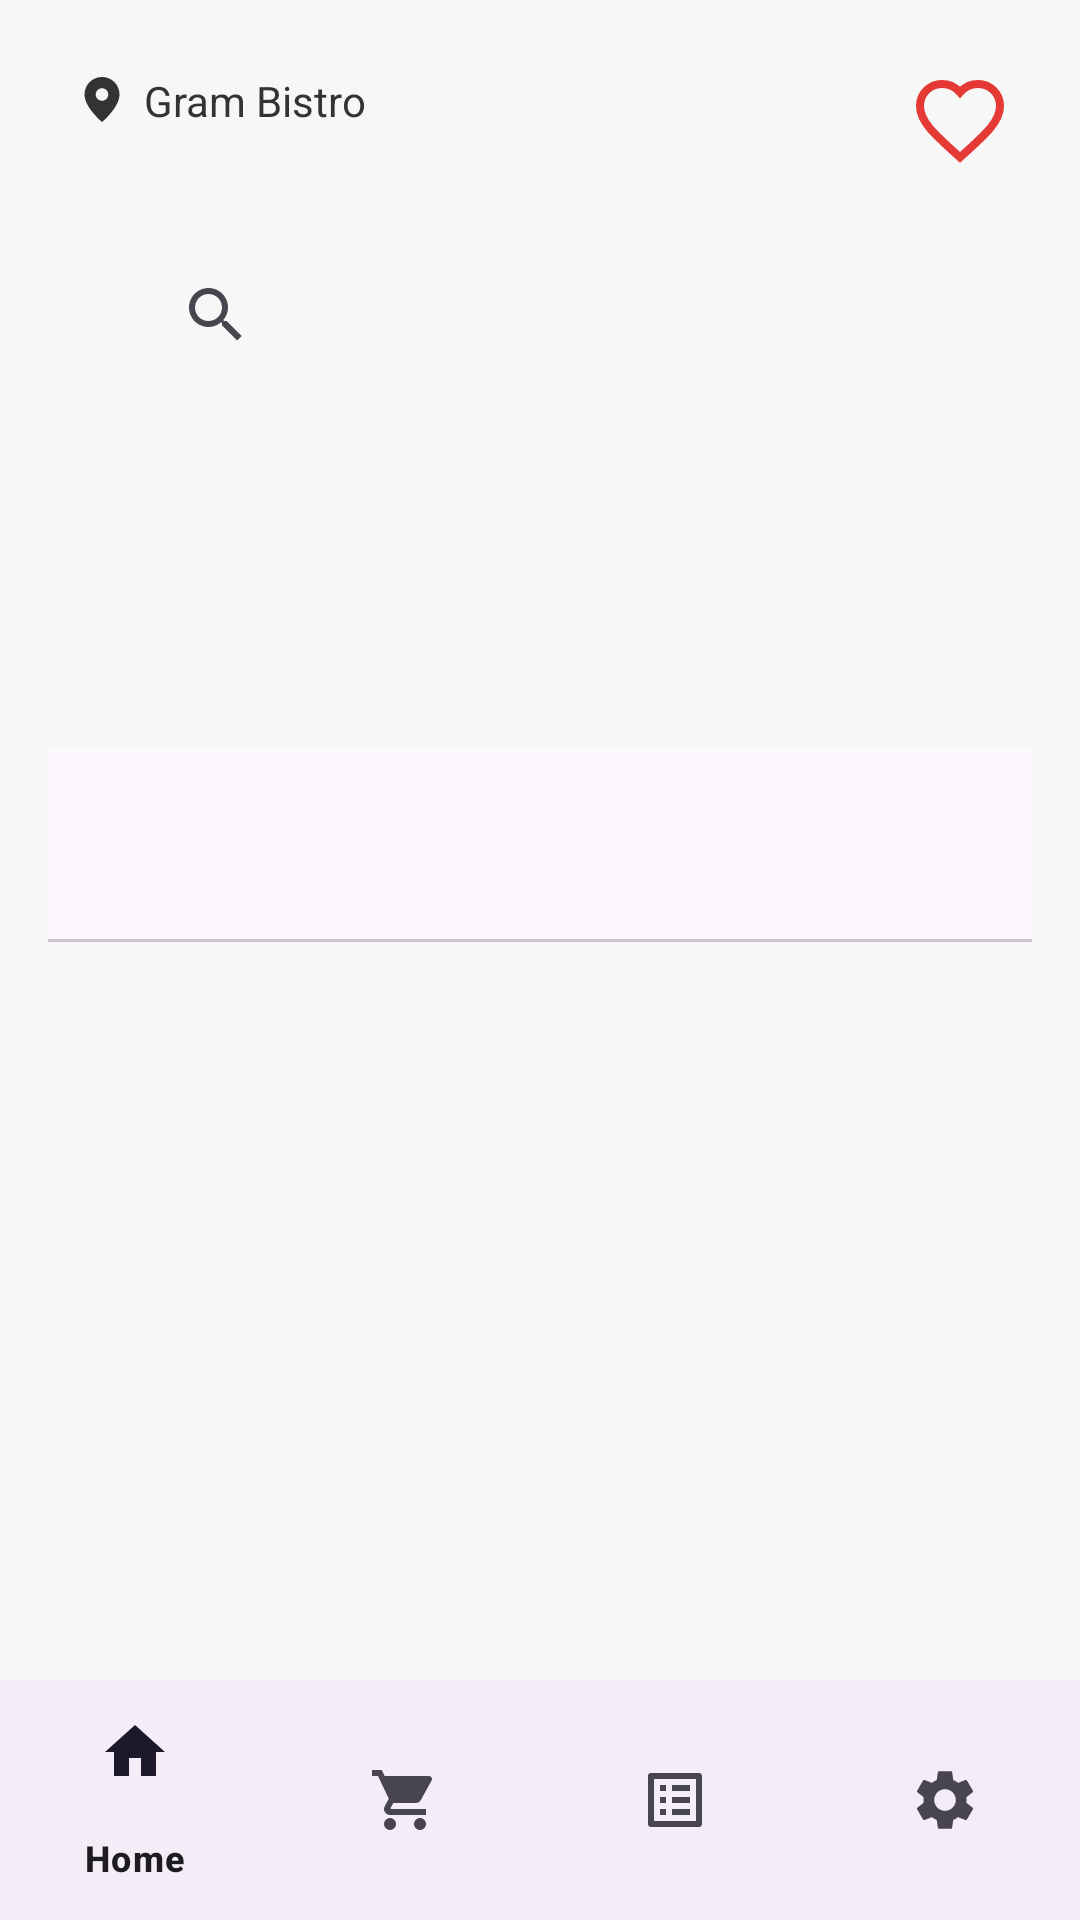

Screen size 1080px x 1920px. Icon name, then its box in pixels as {"left": x1, "top": y1, "right": x2, "bottom": y2}:
favorite border: {"left": 916, "top": 80, "right": 1004, "bottom": 163}
location: {"left": 84, "top": 77, "right": 120, "bottom": 122}
